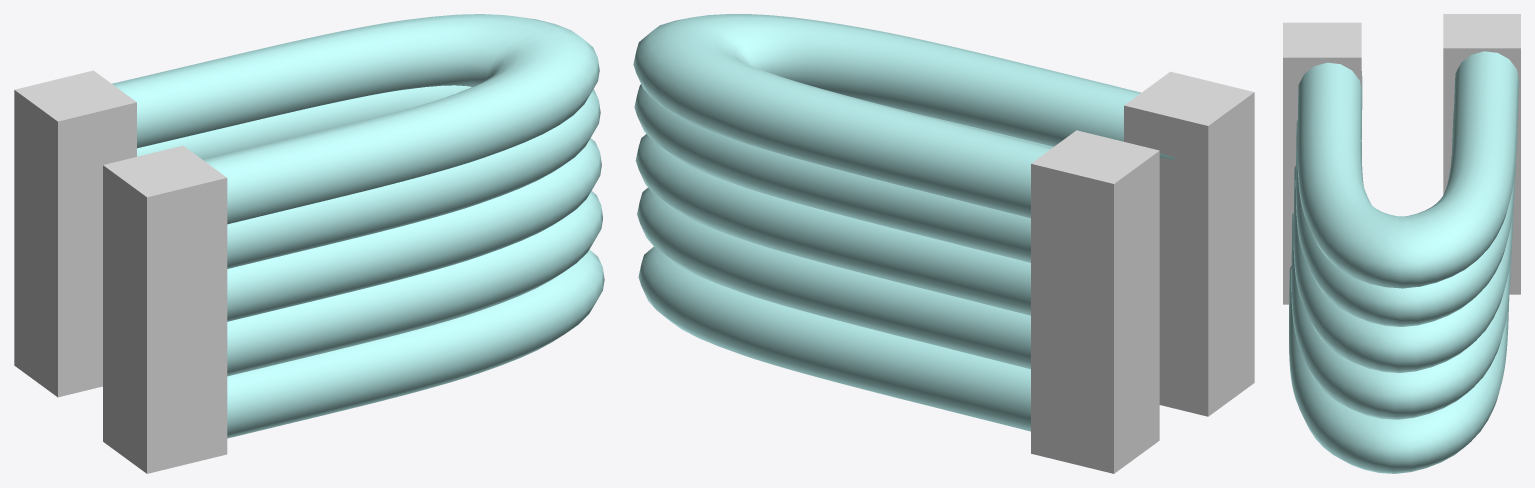
The model's file is provoda 1.fbx.
3 renders of one model, left to right at view 1: azimuth 30°, elevation 25°; view 2: azimuth 150°, elevation 25°; view 3: azimuth 270°, elevation 25°, orthographic. The views are drawn at different scales.
Parts seen in each view (by area): view 1: root.004, Куб, Куб.001, root.002, root.005, root.001, root.003; view 2: root.004, Куб.001, Куб, root.005, root.001, root.003, root.002; view 3: root.004, root.005, root.001, root.003, root.002, Куб, Куб.001.
Boxes of the visible parts, <box> form: root.004: <box>112,14,599,224</box>; Куб: <box>103,145,227,473</box>; Куб.001: <box>14,70,136,397</box>; root.002: <box>137,85,600,268</box>; root.005: <box>227,249,604,438</box>; root.001: <box>227,191,602,376</box>; root.003: <box>227,138,601,321</box>; root.004: <box>633,14,1174,218</box>; Куб.001: <box>1031,130,1159,473</box>; Куб: <box>1124,71,1254,416</box>; root.005: <box>638,247,1030,431</box>; root.001: <box>637,187,1030,369</box>; root.003: <box>635,134,1030,315</box>; root.002: <box>634,84,1053,262</box>; root.004: <box>1297,51,1519,288</box>; root.005: <box>1289,266,1509,473</box>; root.001: <box>1291,212,1511,419</box>; root.003: <box>1293,157,1513,373</box>; root.002: <box>1295,110,1515,326</box>; Куб: <box>1283,22,1361,304</box>; Куб.001: <box>1443,14,1520,294</box>.
Size of the model in its own units: 49.03 by 26.17 by 22.02.
